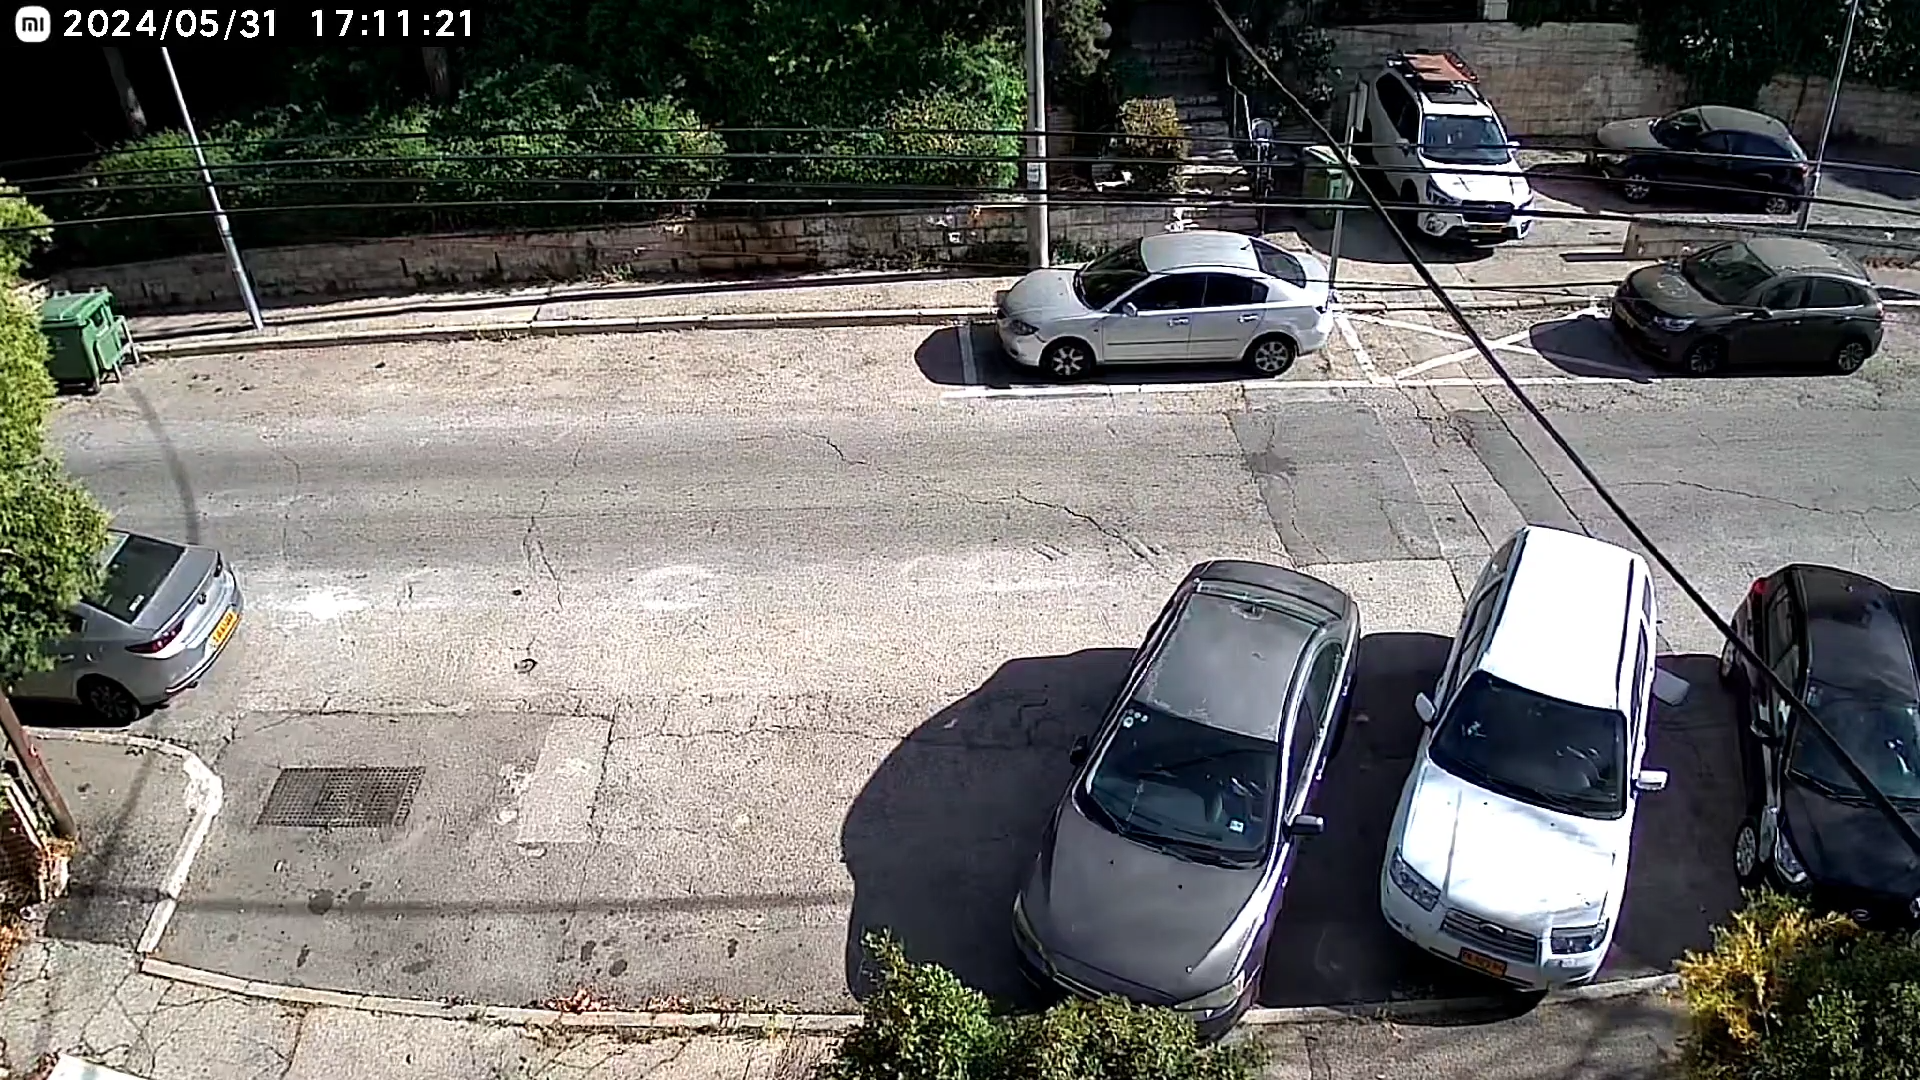moving_car: (709, 509, 1064, 679)
